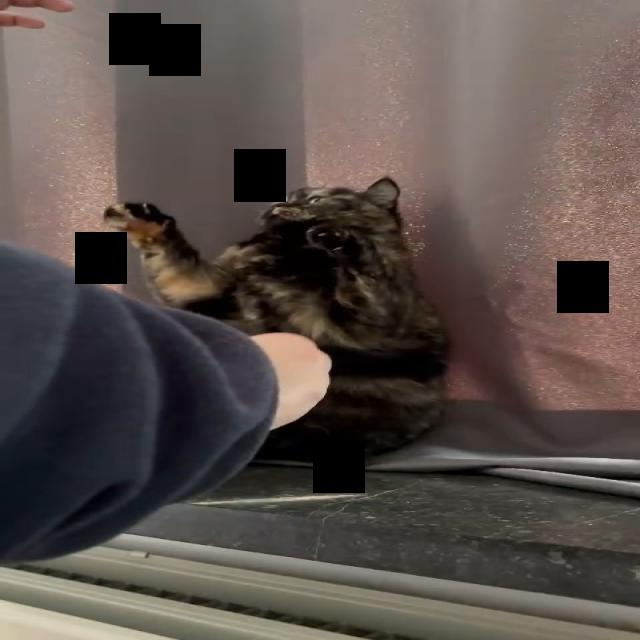authorized: (103, 175, 452, 470)
